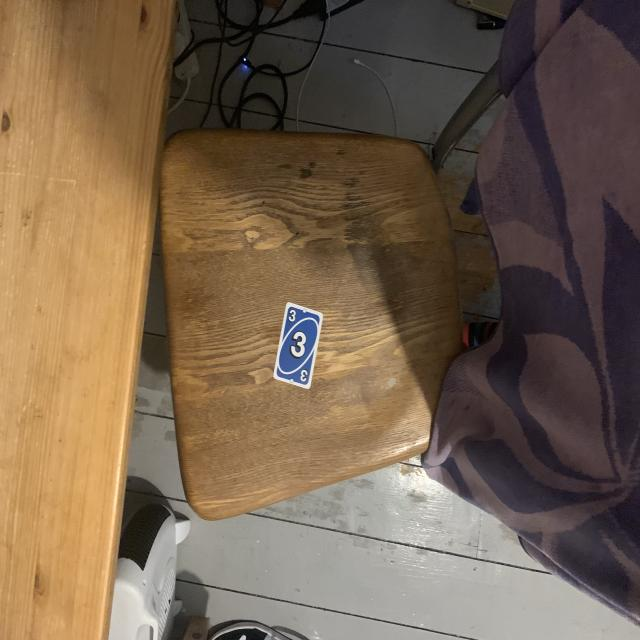lblue-3: (286, 305, 297, 325)
